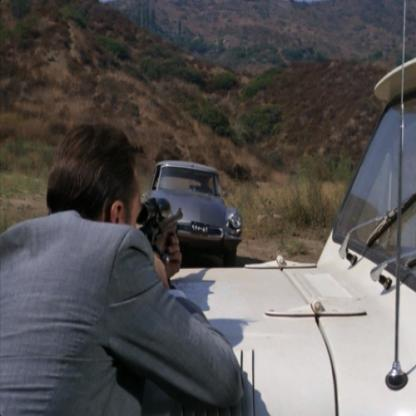Gun: (129, 195, 186, 301)
